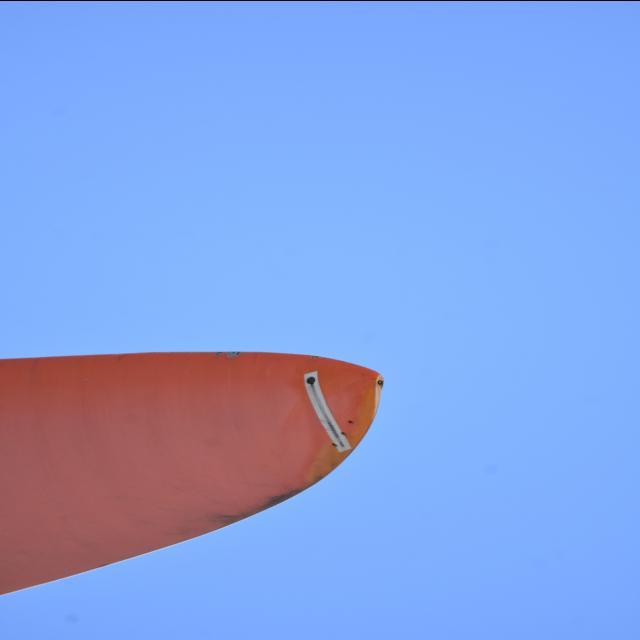Coating_defects: (360, 369, 393, 397)
Crack: (307, 390, 349, 455)
EROSION: (212, 347, 249, 363)
